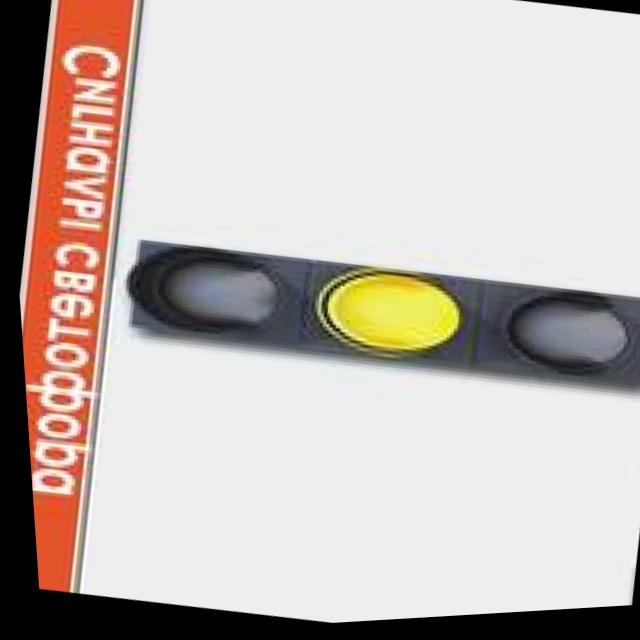yellow_light: (300, 226, 486, 400)
